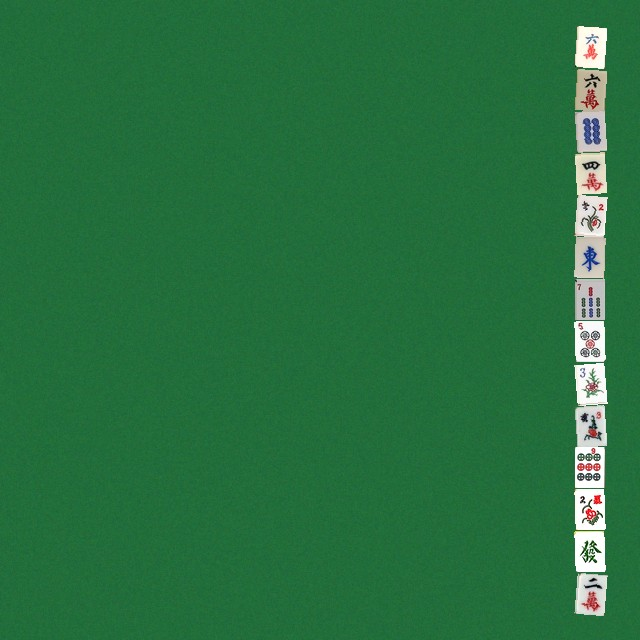tile: (574, 26, 604, 67), (574, 68, 604, 109), (574, 110, 604, 151), (574, 152, 604, 193), (574, 194, 604, 235), (574, 236, 604, 277), (574, 278, 604, 319), (574, 320, 604, 361), (574, 362, 604, 403), (574, 404, 604, 445), (574, 446, 604, 487), (574, 488, 604, 529), (574, 530, 604, 571), (574, 572, 604, 613)
